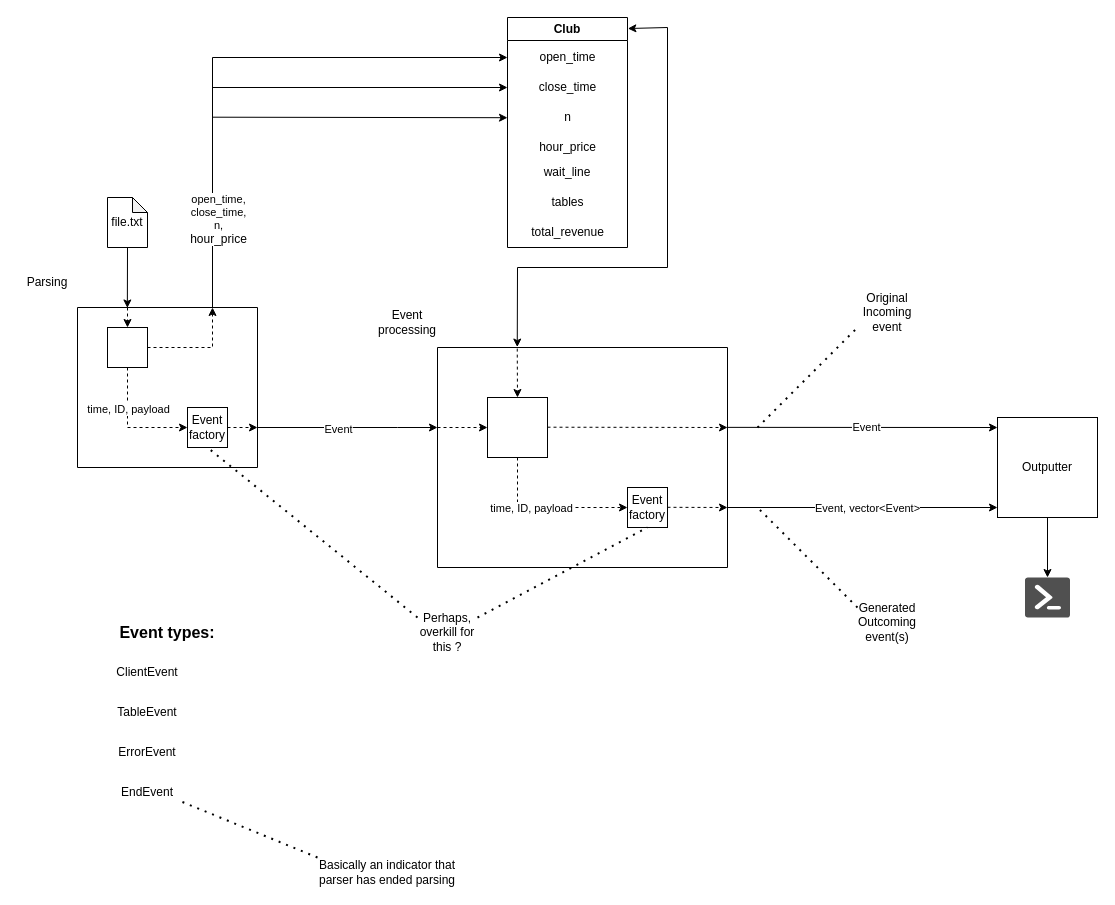
Image size: 1115x905. Some labels were removed from this diagram. Here are the shapes that lost their labels. From the top down, the box of each, then its label:
(106, 326, 148, 368): Parser
(486, 396, 548, 458): Event Handler
(1024, 577, 1070, 617): console
